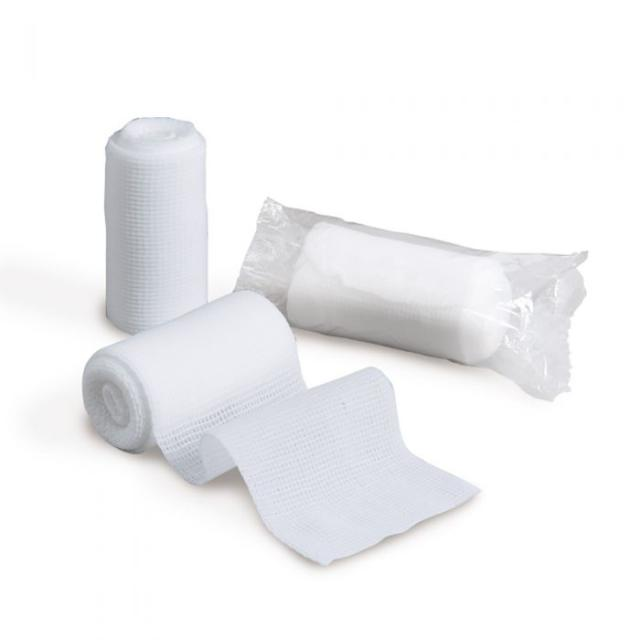B3: (83, 99, 219, 347)
